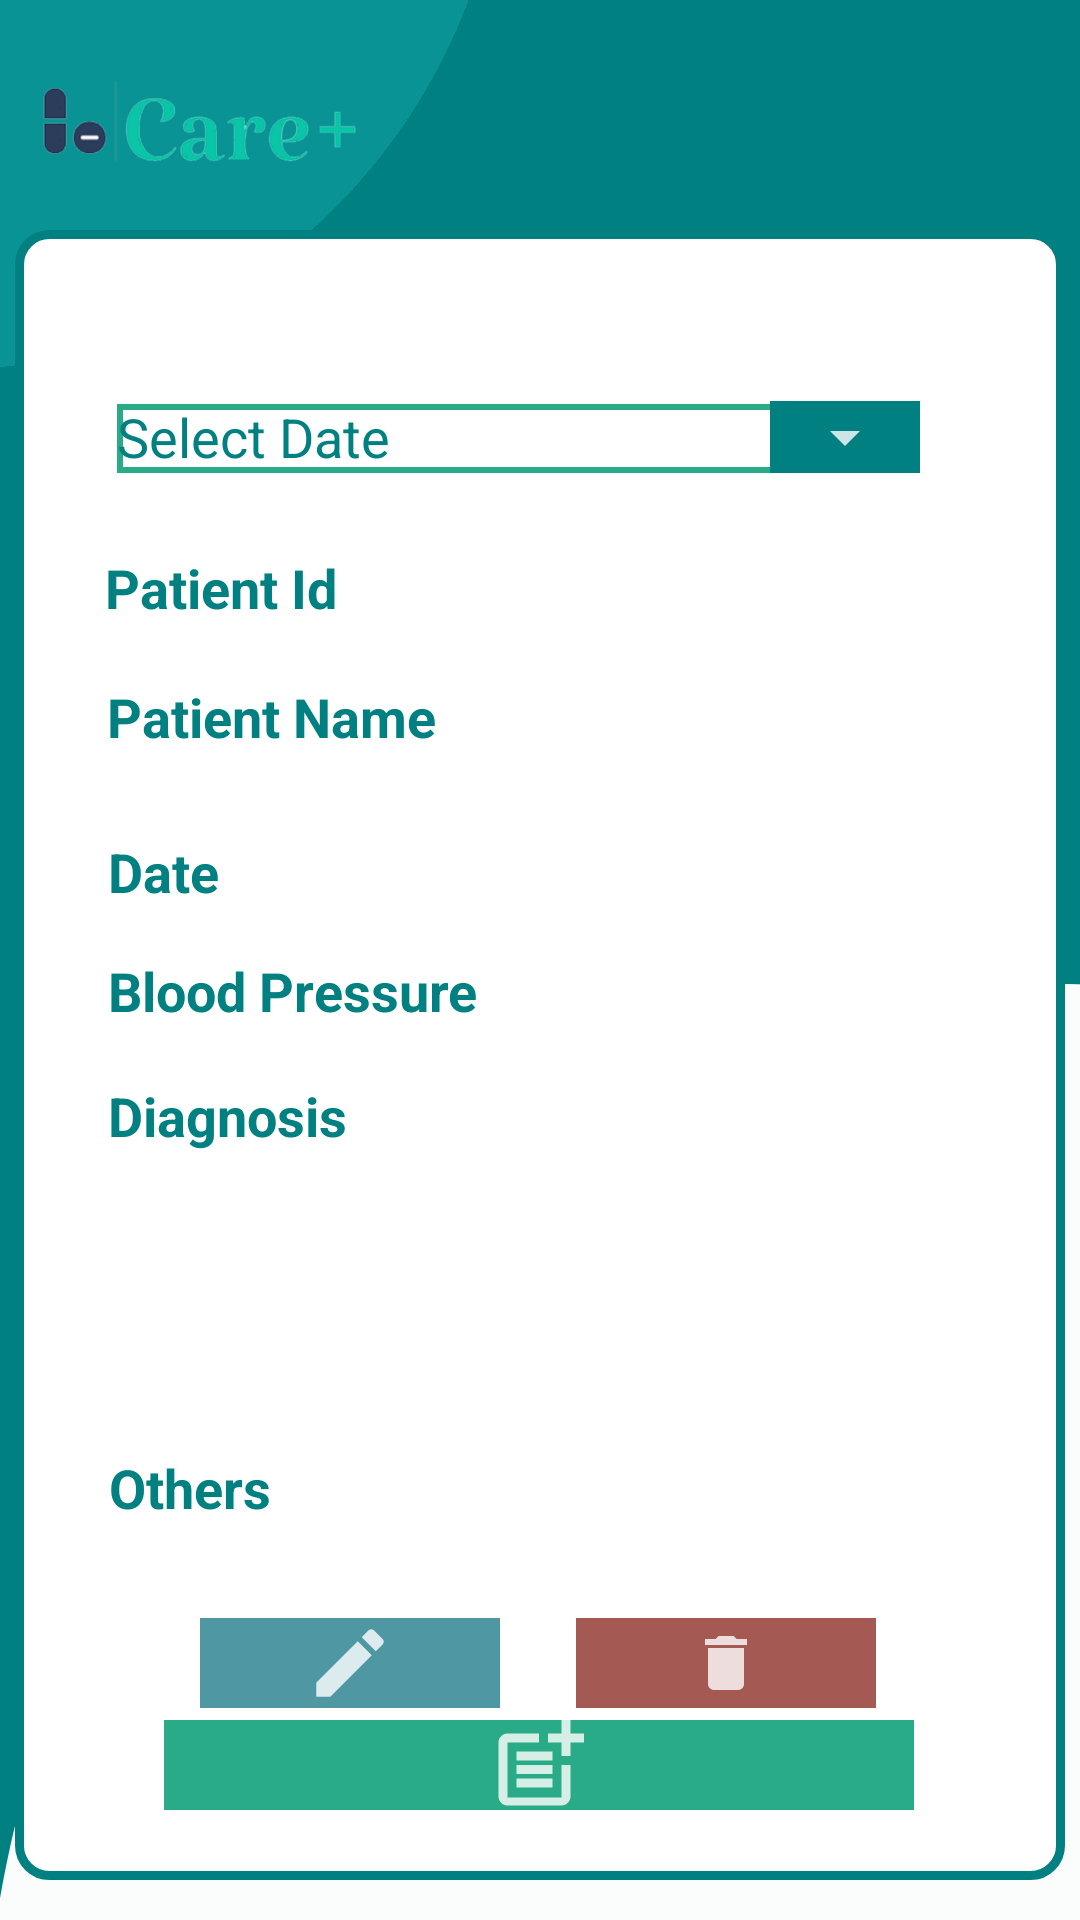

Point at icon controls on the screen. Image size 1080×1920, points as [x,y].
pms delete record: [726,1663]
pms drop: [845,437]
pms update: [350,1663]
